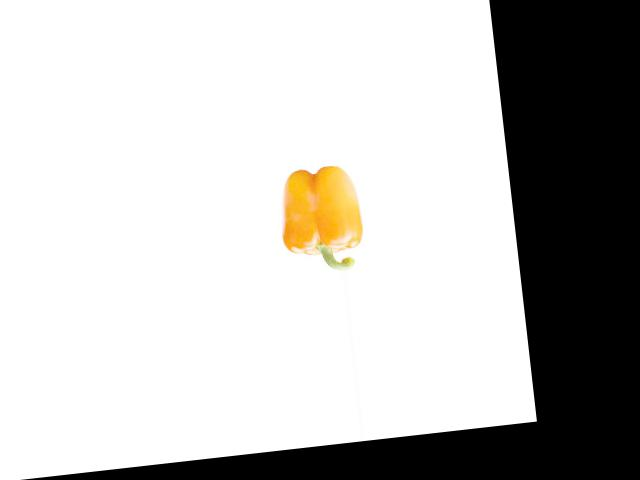bell_pepper: (267, 161, 376, 277)
